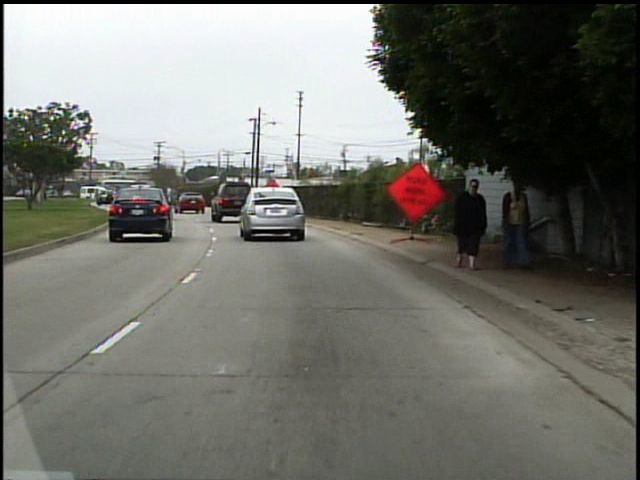person: (444, 174, 492, 274), (493, 168, 536, 279)
